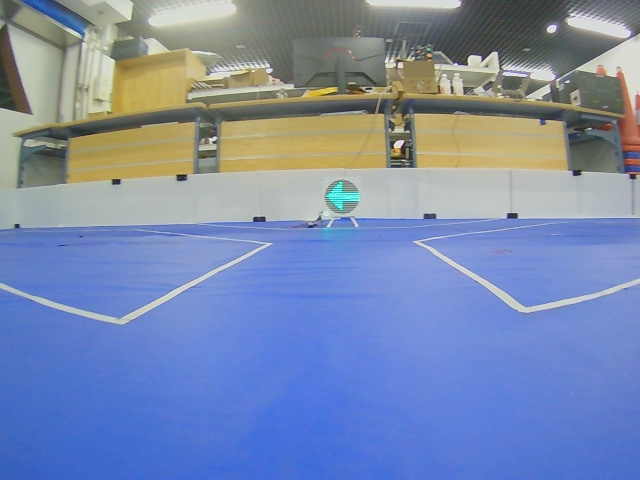left_green: (325, 180, 360, 214)
